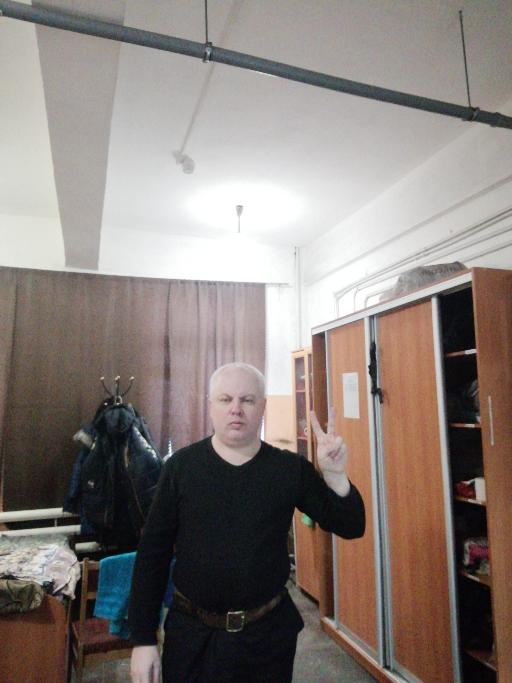no_gesture: (127, 644, 162, 681)
peace: (306, 405, 348, 476)
